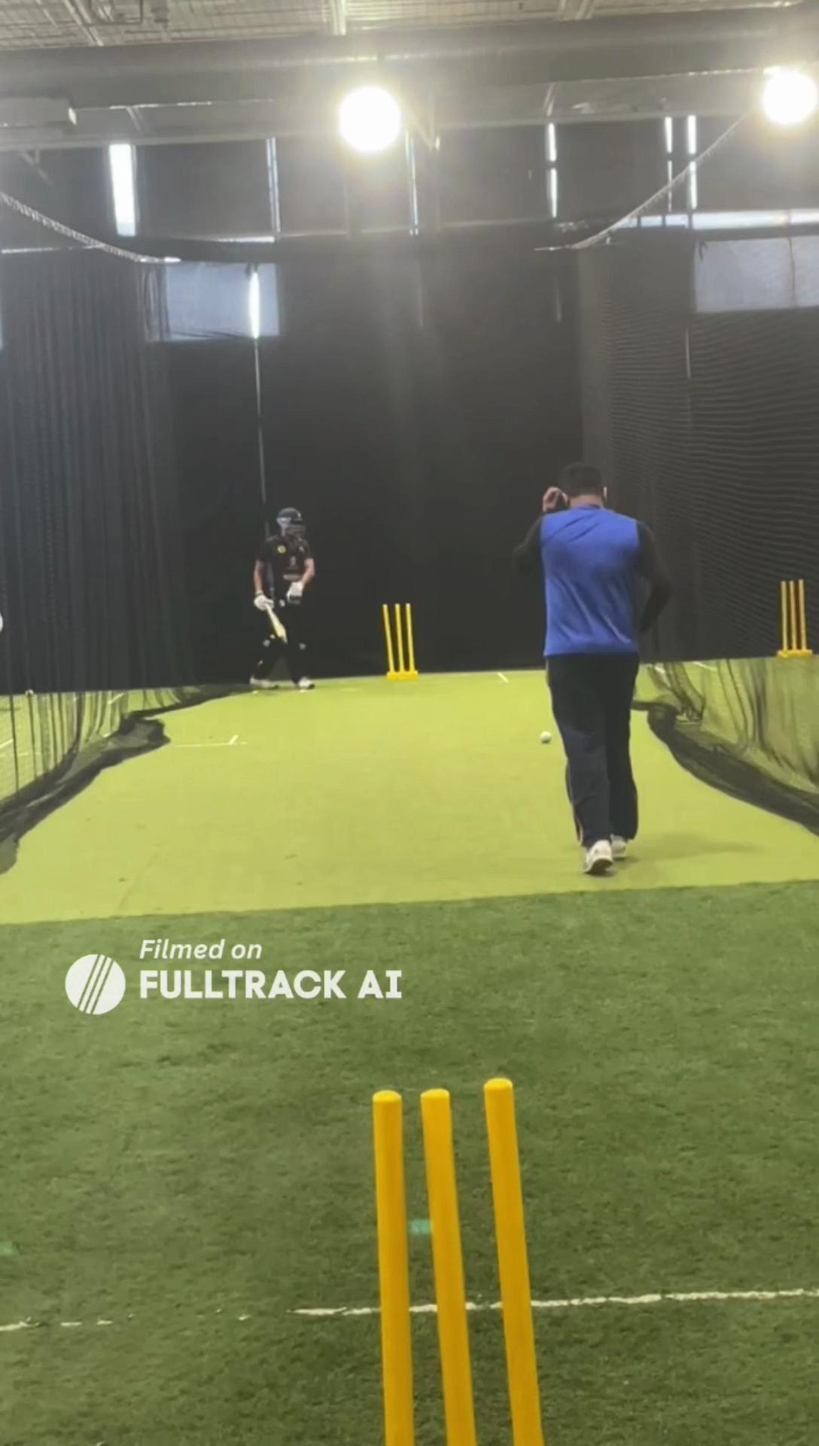ball: (538, 729, 555, 745)
